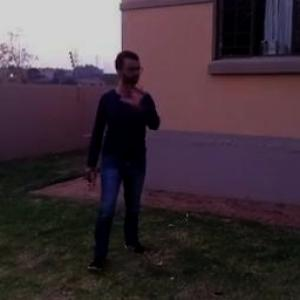follow_hand: (117, 81, 150, 108)
